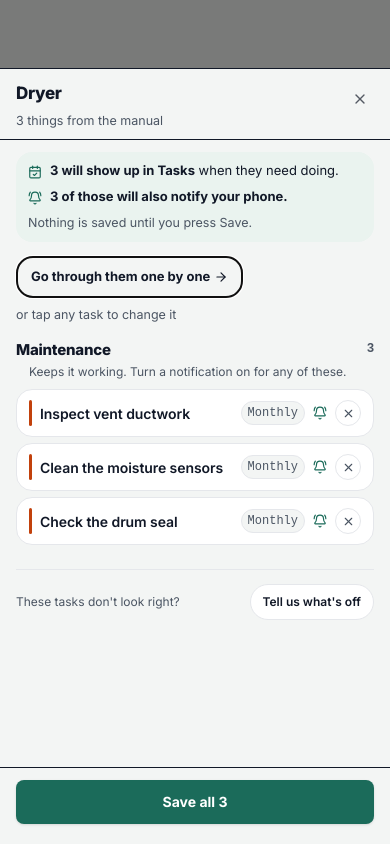
Test: the one-at-a-time walk › outside the walk the card says Done and only closes
Click the button "Check the drum seal Monthly" at point(109, 521), box 16,497 -> 374,545
(page scrolled)
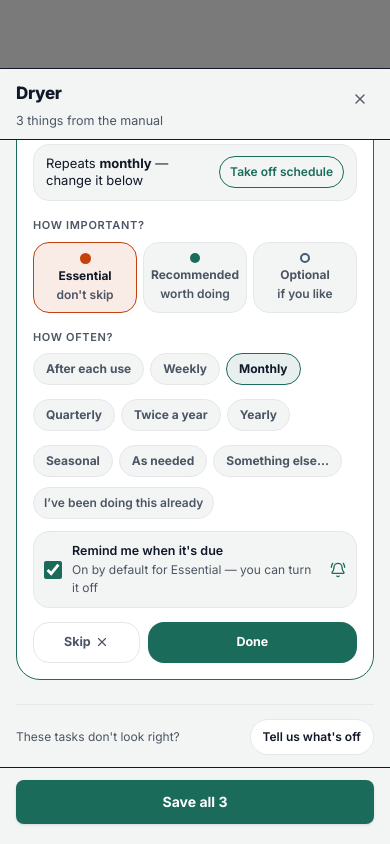
Click the button "Done" at point(252, 642), box 148,622 -> 357,663
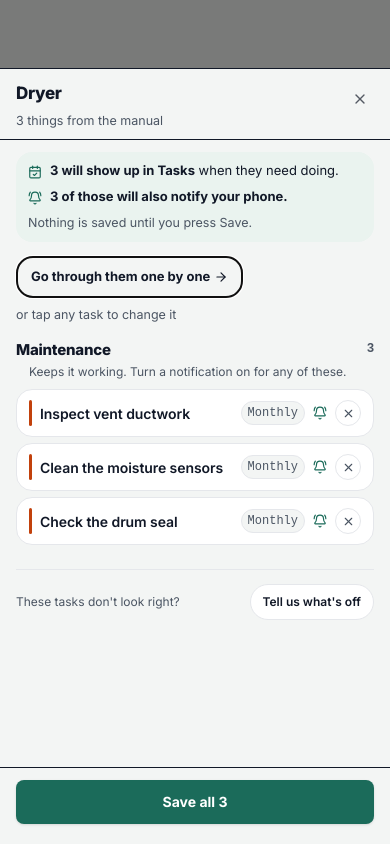
Expected: the text "3 things from the manual" is shown, 16,113 -> 163,128
Result: the button "Done" is gone
